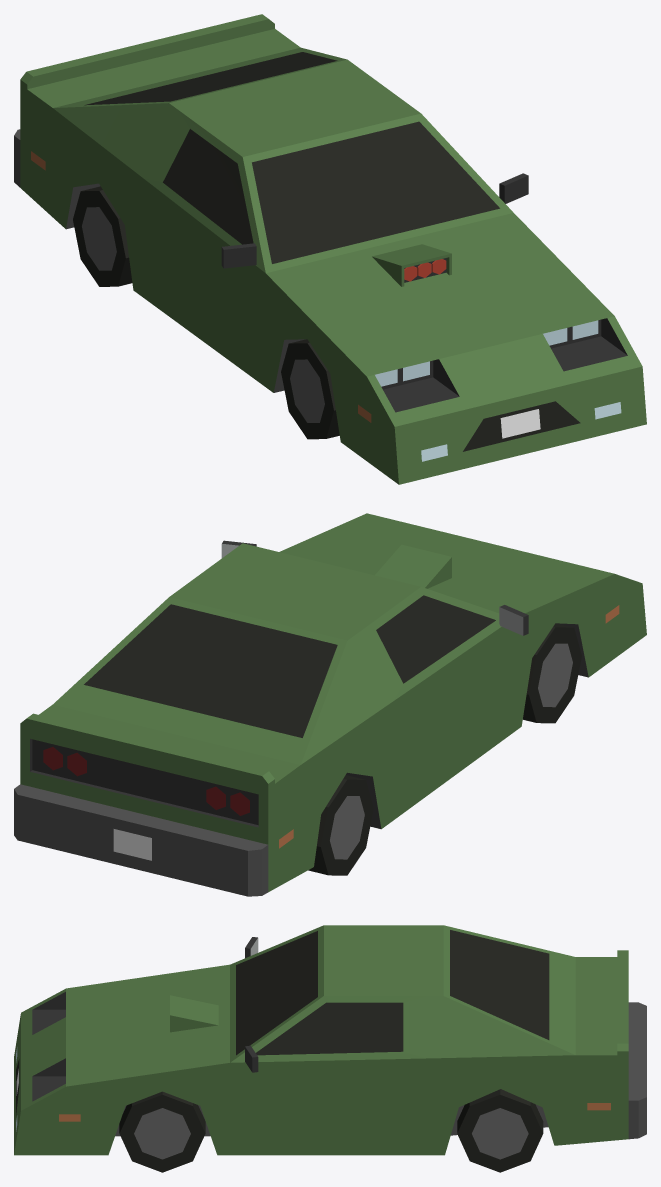
The model's file is Veh_Muscle_Car_03_Green.glb.
3 renders of one model, top to bottom at view 1: azimuth 30°, elevation 25°; view 2: azimuth 150°, elevation 25°; view 3: azimuth 270°, elevation 25°, orthographic. The views are drawn at different scales.
Visible parts, largest first — view 1: Muscle_Car_03_Green, Wheel_RR, Wheel_FR; view 2: Muscle_Car_03_Green, Wheel_RR, Wheel_FR; view 3: Muscle_Car_03_Green, Wheel_RL, Wheel_FL.
Part boxes in pixels (x1,y1,x2,y2): Muscle_Car_03_Green: (14,14,646,484); Wheel_RR: (73,186,132,286); Wheel_FR: (281,339,339,439); Muscle_Car_03_Green: (14,513,646,896); Wheel_RR: (308,775,373,875); Wheel_FR: (523,623,581,723); Muscle_Car_03_Green: (14,925,646,1155); Wheel_RL: (457,1089,543,1172); Wheel_FL: (119,1091,205,1172).
Bounding box in the file's own units: 1.24 × 0.7814 × 2.75.
1 material, 1 textured.
